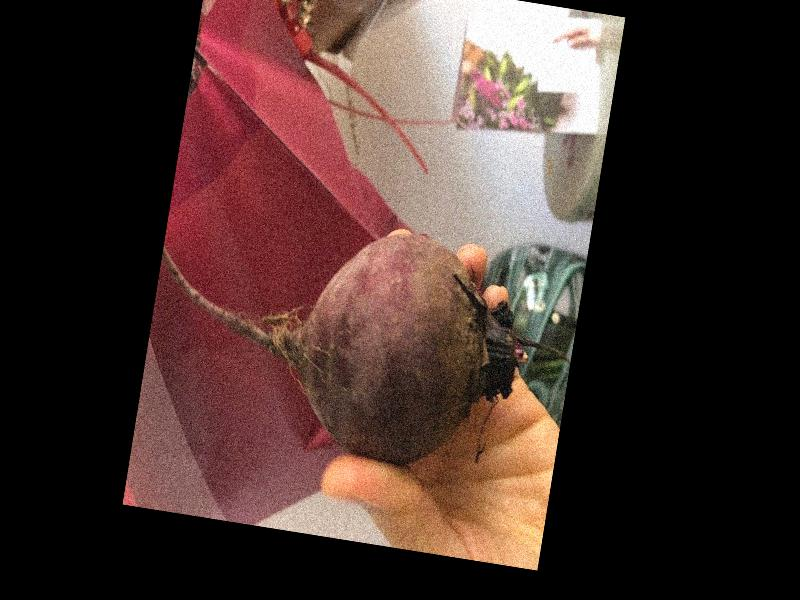Beet: (137, 195, 583, 488)
